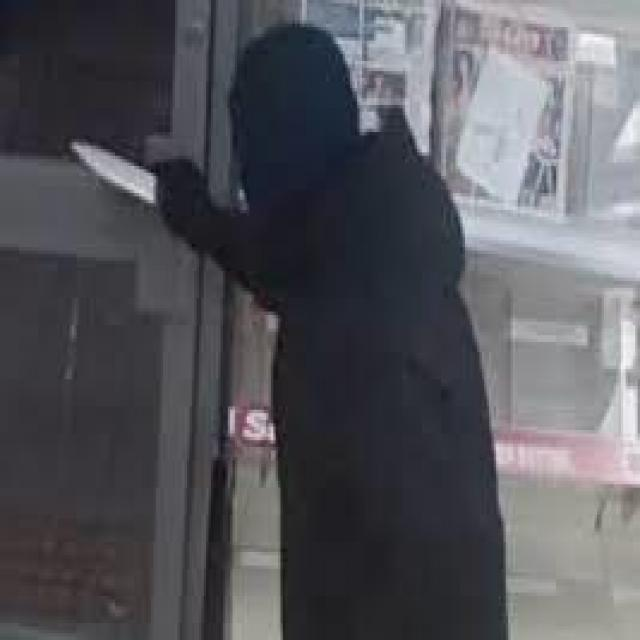weapon: (60, 122, 204, 230)
